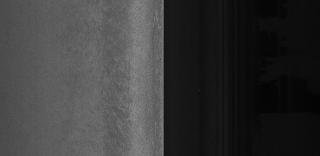silk spot: (102, 41, 140, 125)
